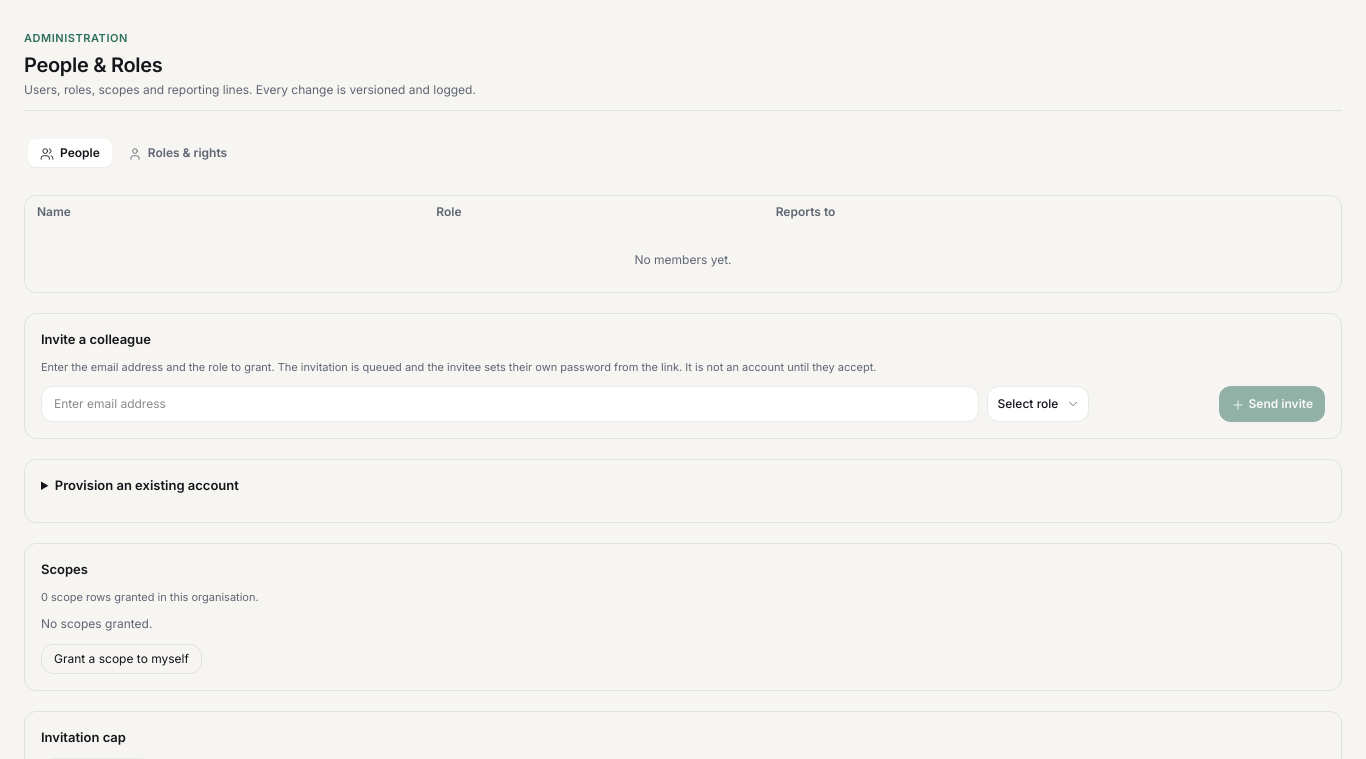
Test: People admin invite (D20) › keeps the send button disabled until the email looks valid
This screenshot has width=1366, height=759.
Check: the button with test id "admin-invite" is disabled, box [1218,386,1325,422]
In the field labelled "Enter email address": (510, 404) [41,386,978,422], type "nope"
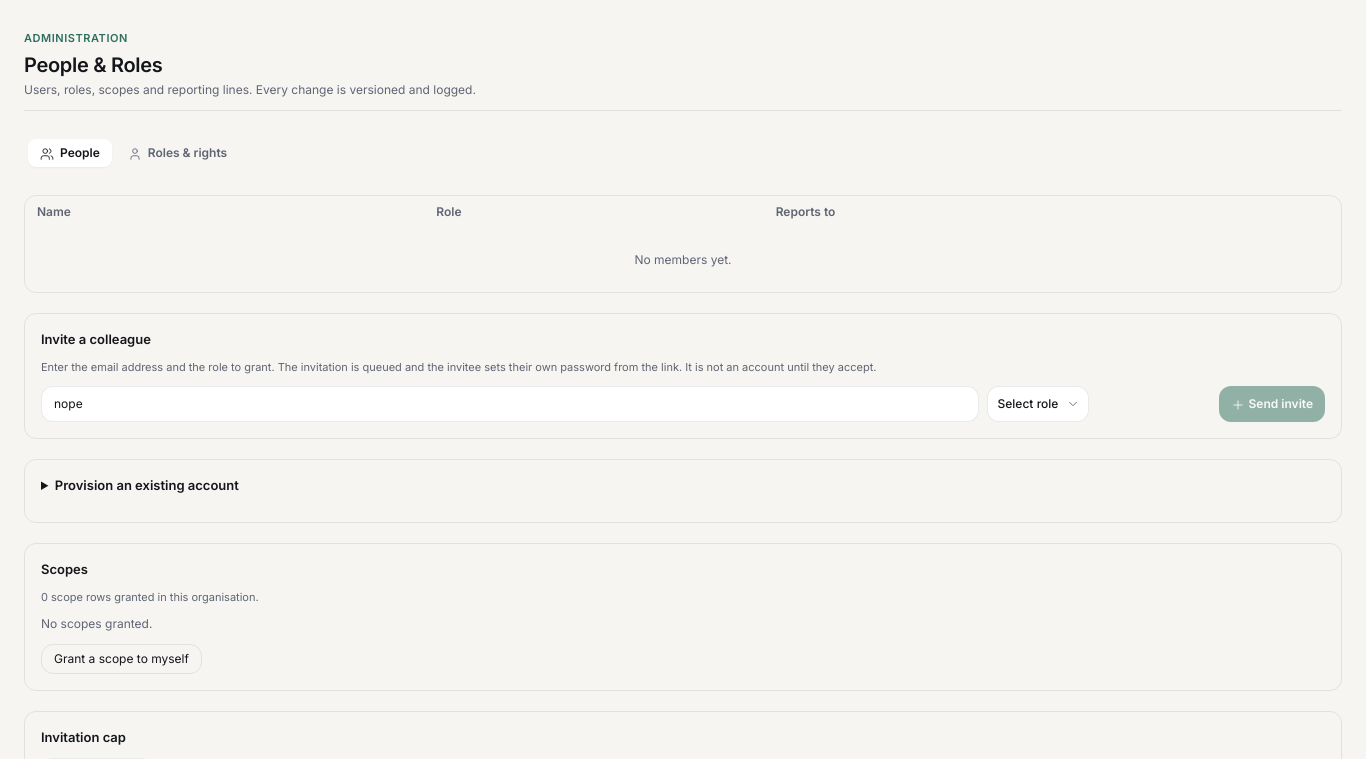
Check: the button with test id "admin-invite" is disabled, box [1218,386,1325,422]
Replace the text in the field named "Enter email address" with "a@b.test": (510, 404) [41,386,978,422]
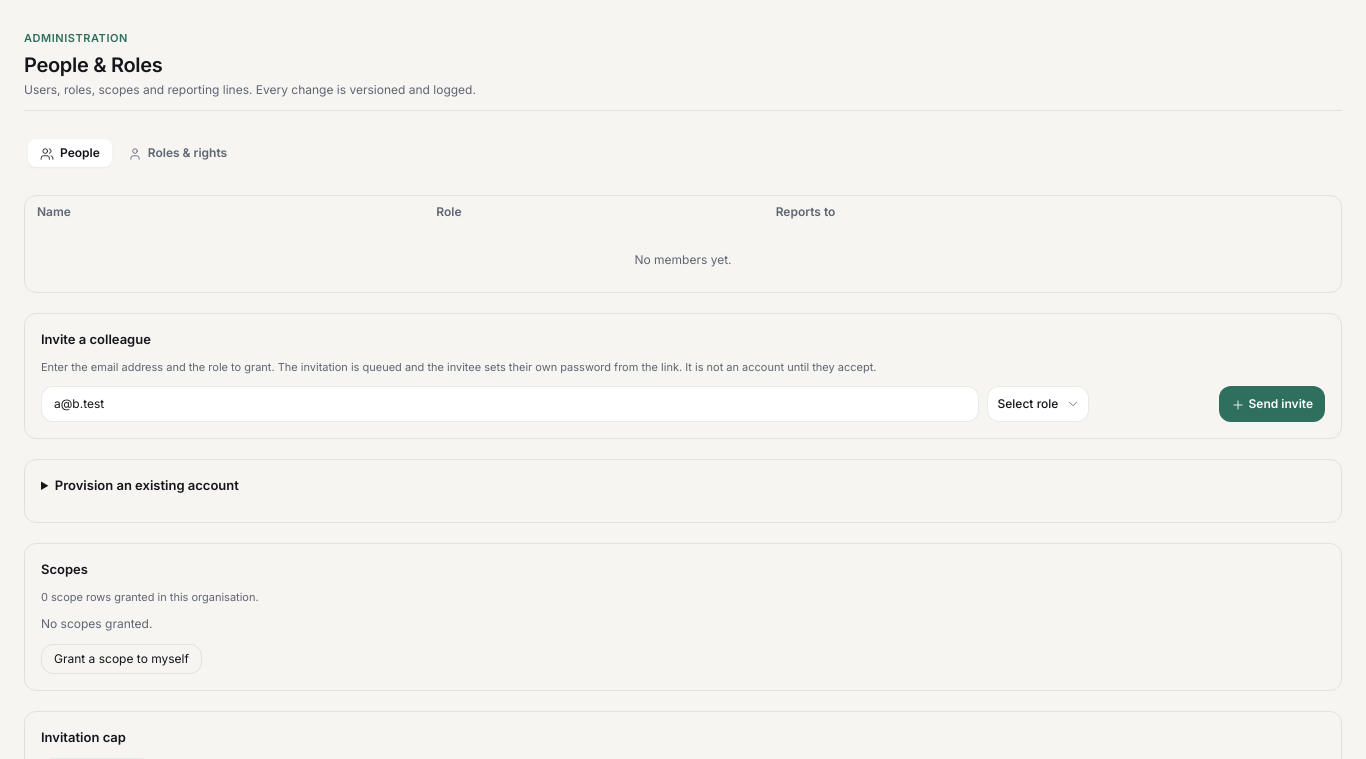
Check: the button with test id "admin-invite" is enabled, box [1218,386,1325,422]
